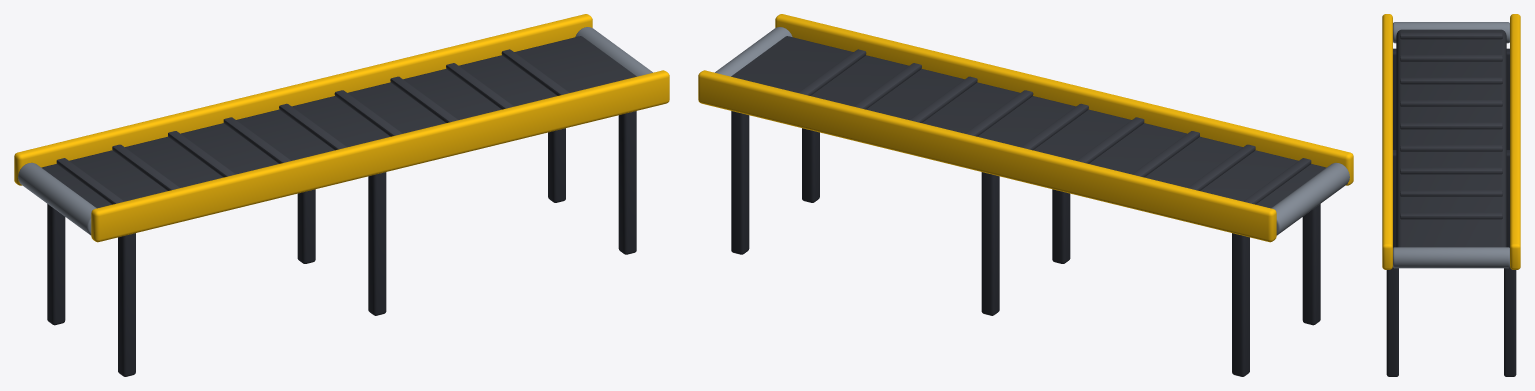
The model's file is esteira.glb.
3 renders of one model, left to right at view 1: azimuth 30°, elevation 25°; view 2: azimuth 150°, elevation 25°; view 3: azimuth 270°, elevation 25°, orthographic. The views are drawn at different scales.
Visible parts, largest first — view 1: esteira_correia, Cube, Cube.004, Cube.002, Cube.003, Cube.001, Cylinder, Cube.005, Cube.006, Cube.007, Cylinder.001, Cube.008 (+8 smaller); view 2: esteira_correia, Cube.004, Cube, Cube.006, Cube.007, Cube.005, Cylinder, Cube.001, Cube.002, Cube.003, Cylinder.001, Cube.008 (+8 smaller); view 3: esteira_correia, Cube, Cube.004, Cylinder.001, Cube.003, Cube.007, Cylinder, Cube.008, Cube.010, Cube.012, Cube.014, Cube.016 (+8 smaller).
Part boxes in pixels (left/top/right/bottom): esteira_correia: left=41, top=36, right=636, bottom=208; Cube: left=91, top=70, right=669, bottom=242; Cube.004: left=14, top=14, right=592, bottom=185; Cube.002: left=368, top=172, right=386, bottom=315; Cube.003: left=618, top=111, right=636, bottom=254; Cube.001: left=118, top=233, right=135, bottom=376; Cylinder: left=18, top=162, right=96, bottom=235; Cube.005: left=47, top=204, right=65, bottom=325; Cube.006: left=297, top=189, right=315, bottom=263; Cube.007: left=548, top=128, right=565, bottom=202; Cylinder.001: left=575, top=27, right=652, bottom=76; Cube.008: left=56, top=158, right=124, bottom=204; esteira_correia: left=731, top=36, right=1326, bottom=208; Cube.004: left=698, top=70, right=1276, bottom=242; Cube: left=775, top=14, right=1353, bottom=185; Cube.006: left=981, top=172, right=999, bottom=315; Cube.007: left=731, top=111, right=749, bottom=254; Cube.005: left=1232, top=233, right=1249, bottom=376; Cylinder: left=1271, top=162, right=1349, bottom=235; Cube.001: left=1302, top=204, right=1320, bottom=325; Cube.002: left=1052, top=189, right=1070, bottom=263; Cube.003: left=802, top=128, right=819, bottom=202; Cylinder.001: left=715, top=27, right=792, bottom=76; Cube.008: left=1243, top=158, right=1311, bottom=204; esteira_correia: left=1396, top=29, right=1506, bottom=247; Cube: left=1382, top=14, right=1392, bottom=269; Cube.004: left=1510, top=14, right=1520, bottom=269; Cylinder.001: left=1393, top=247, right=1509, bottom=268; Cube.003: left=1386, top=267, right=1398, bottom=376; Cube.007: left=1504, top=267, right=1516, bottom=376; Cylinder: left=1393, top=22, right=1509, bottom=43; Cube.008: left=1400, top=32, right=1502, bottom=39; Cube.010: left=1400, top=77, right=1502, bottom=84; Cube.012: left=1400, top=122, right=1502, bottom=129; Cube.014: left=1400, top=167, right=1502, bottom=174; Cube.016: left=1400, top=212, right=1502, bottom=219.
Bounding box in the file's own units: 3.12 × 0.9 × 0.78.
